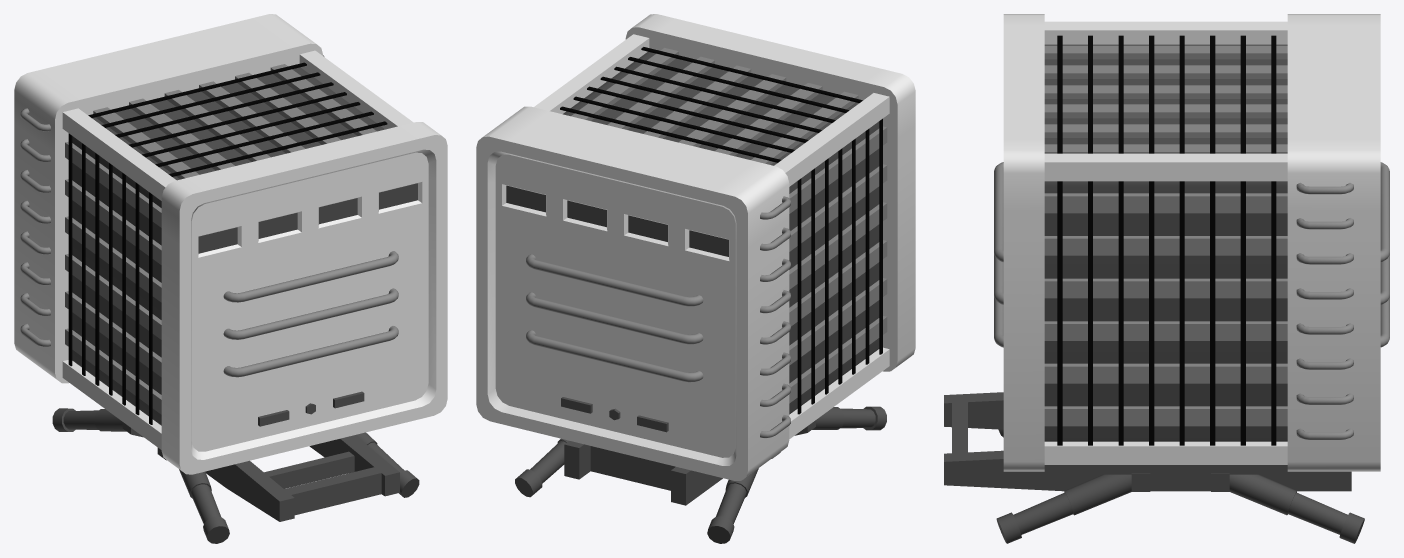
The model's file is trailer2.obj.
The picture shows the model from 3 angles, left to right: view 1: azimuth 30°, elevation 25°; view 2: azimuth 150°, elevation 25°; view 3: azimuth 270°, elevation 25°; orthographic projection. The views are drawn at different scales.
Visible parts, largest first — view 1: trailer2; view 2: trailer2; view 3: trailer2.
Boxes of the visible parts, x1,y1,x2,y2 form: trailer2: (14,14,447,543); trailer2: (476,14,915,543); trailer2: (944,14,1389,543).
Size of the model in its own units: 1.54 by 1.82 by 1.81.
Materials: 1 (1 with a texture image).
